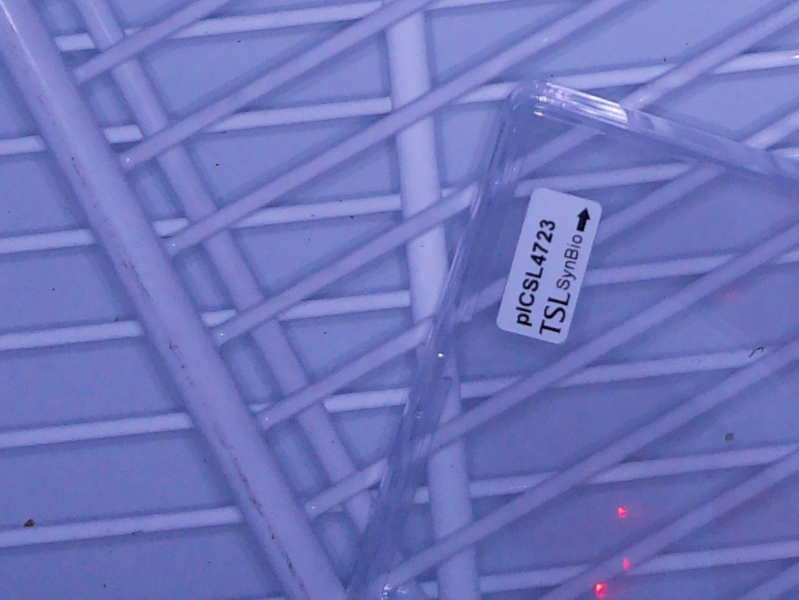plate: (338, 81, 799, 600)
